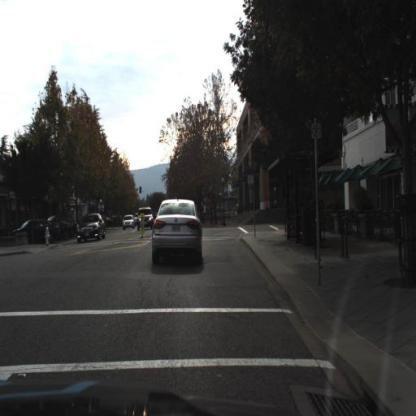car: (152, 200, 204, 269), (12, 218, 62, 250), (72, 205, 106, 244), (76, 210, 107, 246), (137, 206, 156, 235), (138, 207, 154, 232), (120, 214, 136, 236), (123, 214, 136, 232)
pedestrian: (265, 192, 273, 217), (265, 197, 271, 217)
